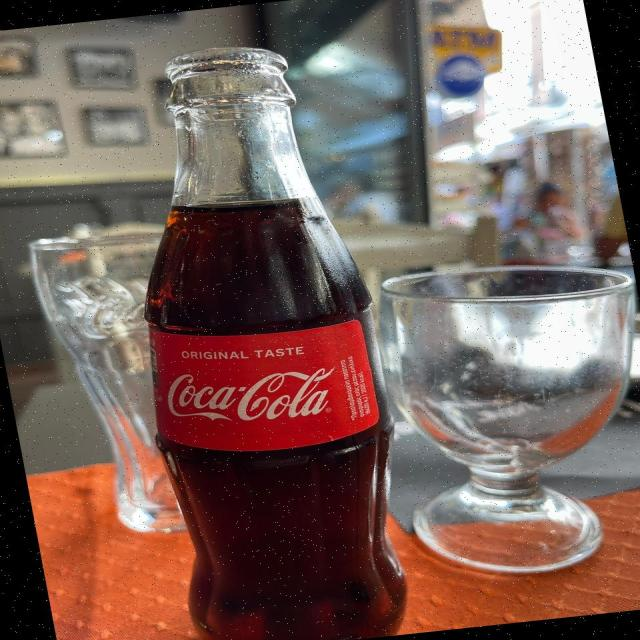coca-cola: (80, 27, 436, 640)
